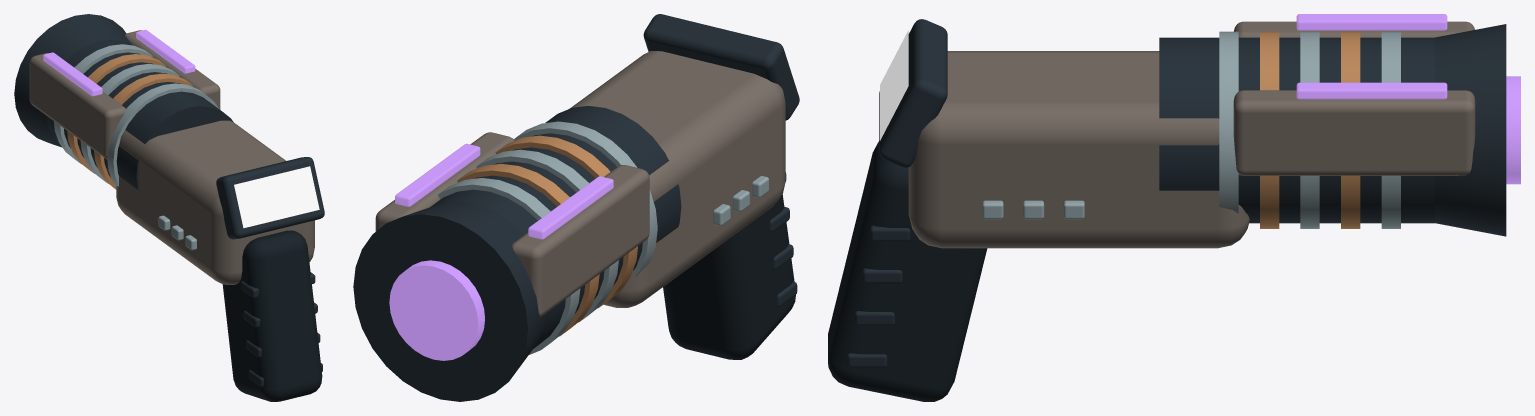
Rendered from instrument_1.glb.
3 views of the same model, side by side, from view 1: azimuth 30°, elevation 25°; view 2: azimuth 150°, elevation 25°; view 3: azimuth 270°, elevation 25° (orthographic). The views are drawn at different scales.
Bounding box in the file's own units: 0.11 × 0.2023 × 0.3583.
